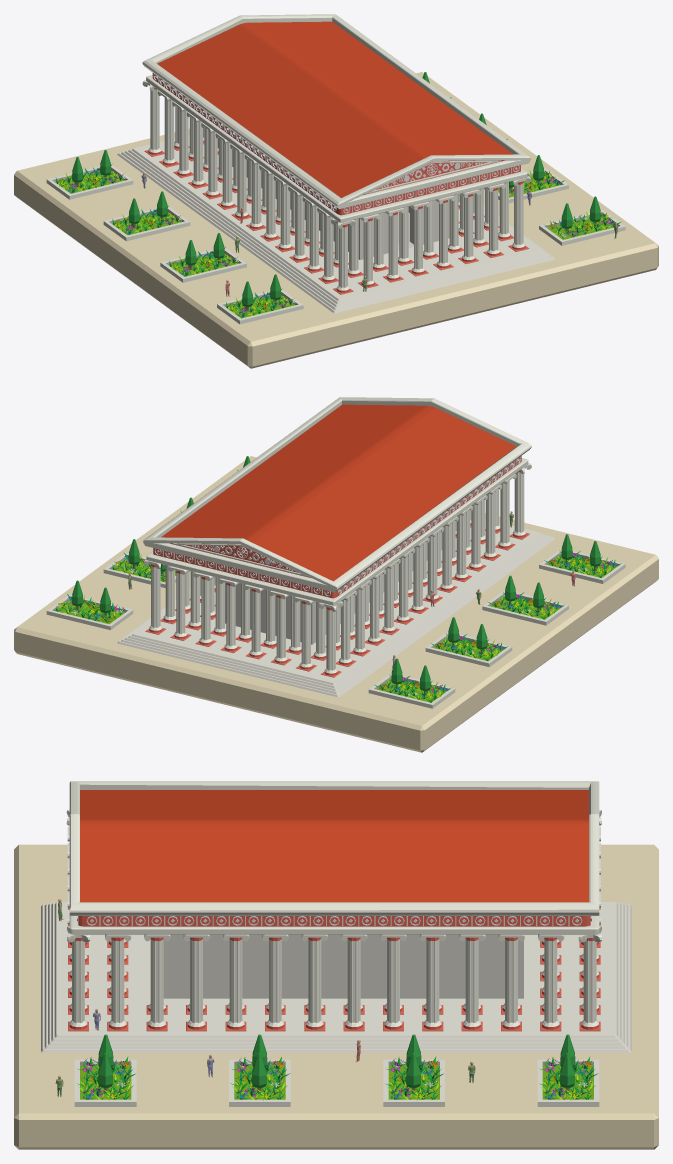
File: Artemis2.glb
3 views of the same model, one above another, from view 1: azimuth 30°, elevation 25°; view 2: azimuth 150°, elevation 25°; view 3: azimuth 270°, elevation 25° (orthographic). The views are drawn at different scales.
Parts seen in each view (by area): view 1: roof, base zeus, steps, column left, Cube, column bottom, plants, roof selectable, Roof Decs Top, internal room, column right, column corner BL (+4 smaller); view 2: roof, base zeus, steps, column left, Cube, column top, plants, roof selectable, Roof Decs Top, internal room, column right, column corner TL (+4 smaller); view 3: roof, base zeus, steps, column right, internal room, Cube, plants, roof selectable, Roof Decs Top, column corner TR, column corner BR, column top (+1 smaller).
Part boxes in pixels (box(x1,y1,x2,y2)): roof: box(142, 14, 531, 222); base zeus: box(14, 72, 658, 368); steps: box(117, 134, 555, 313); column left: box(157, 91, 348, 283); Cube: box(46, 85, 625, 324); column bottom: box(358, 183, 505, 288); plants: box(55, 72, 620, 317); roof selectable: box(152, 73, 520, 215); Roof Decs Top: box(153, 74, 519, 213); internal room: box(232, 149, 449, 259); column right: box(458, 182, 513, 241); column corner BL: box(331, 218, 355, 294); roof: box(143, 397, 531, 605); base zeus: box(14, 456, 658, 752); steps: box(117, 519, 555, 697); column left: box(325, 474, 516, 666); Cube: box(46, 470, 625, 708); column top: box(168, 566, 316, 671); plants: box(54, 456, 621, 702); roof selectable: box(153, 456, 521, 598); Roof Decs Top: box(154, 456, 520, 596); internal room: box(225, 532, 442, 644); column right: box(160, 565, 215, 624); column corner TL: box(318, 601, 343, 677); roof: box(69, 781, 599, 934); base zeus: box(14, 844, 658, 1149); steps: box(41, 902, 631, 1052); column right: box(105, 934, 564, 1031); internal room: box(163, 934, 523, 998); Cube: box(74, 1059, 599, 1106); plants: box(77, 1034, 598, 1100); roof selectable: box(78, 916, 590, 926); Roof Decs Top: box(77, 916, 591, 926); column corner TR: box(578, 926, 601, 1031); column corner BR: box(66, 926, 90, 1031); column top: box(540, 826, 600, 1014).
Bounding box in the file's own units: 8 × 2.76 × 8.
